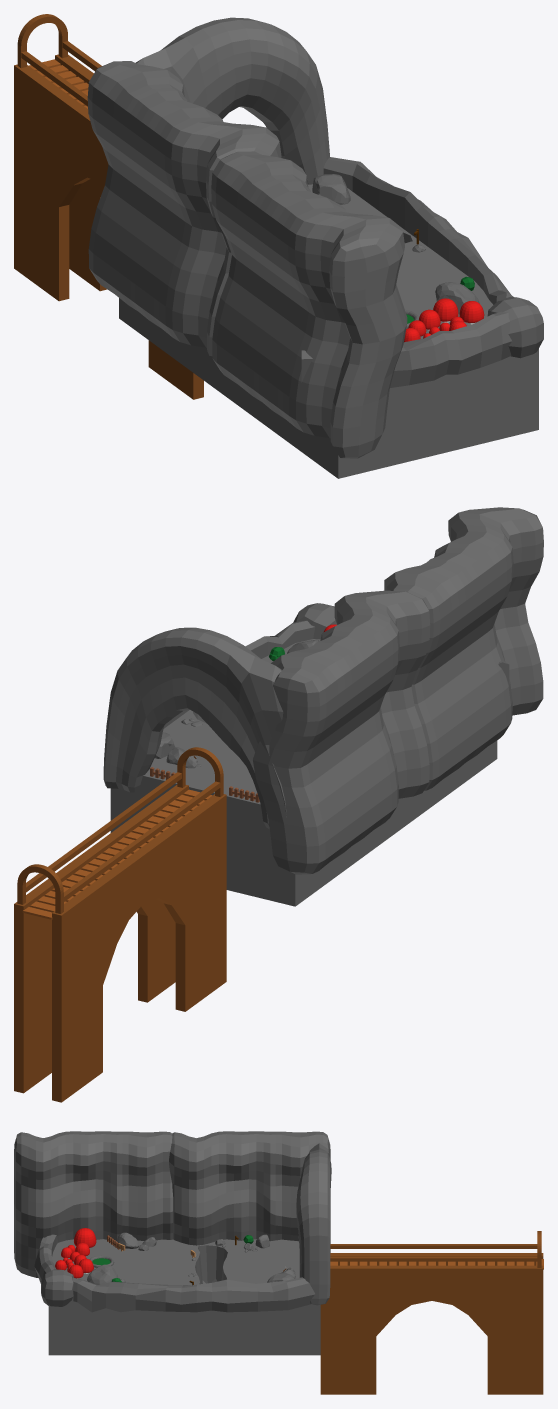
Rendered from картаобучения.fbx.
3 views of the same model, one above another, from view 1: azimuth 30°, elevation 25°; view 2: azimuth 150°, elevation 25°; view 3: azimuth 270°, elevation 25° (orthographic). The views are drawn at different scales.
Visible parts, largest first — view 1: Стена.001, Стена, Plane, Cube.059, Арка, Cube.053, Cube.047, Cube.060, Cube.048, Cube.056, Cube.057, Cube.080 (+2 smaller); view 2: Стена, Стена.001, Cube.059, Арка, Plane, Cube.060, Cube.056, Cube.061, Cube.053, Cube.057, Cube.048, Cube.058; view 3: Plane, Cube.060, Стена.001, Стена, Cube.053, Арка, Cube.056, Cube.059, Cube.048, Cube.061, Cube.047, Cube.054 (+1 smaller).
Boxes of the visible parts, x1,y1,x2,y2 form: Стена.001: (211,151,407,458); Стена: (87,61,281,367); Plane: (119,184,538,478); Cube.059: (14,64,203,399); Арка: (135,17,329,184); Cube.053: (323,157,513,304); Cube.047: (301,311,511,387); Cube.060: (55,54,106,291); Cube.048: (487,296,543,358); Cube.056: (21,41,101,106); Cube.057: (17,14,67,68); Cube.080: (312,174,350,204); Стена: (253,590,430,874); Стена.001: (384,507,543,790); Cube.059: (52,794,226,1102); Арка: (103,627,286,829); Plane: (110,639,497,906); Cube.060: (14,785,188,1093); Cube.056: (26,772,220,901); Cube.061: (22,789,212,919); Cube.053: (163,620,315,728); Cube.057: (17,864,63,913); Cube.048: (293,603,336,639); Cube.058: (177,747,223,796); Plane: (48,1239,320,1355); Cube.060: (320,1265,543,1394); Стена.001: (14,1131,173,1277); Стена: (169,1131,330,1252); Cube.053: (73,1277,315,1312); Арка: (296,1143,331,1305); Cube.056: (330,1244,537,1261); Cube.059: (330,1253,543,1265); Cube.048: (41,1269,73,1306); Cube.061: (330,1259,543,1269); Cube.047: (34,1234,57,1284); Cube.054: (87,1264,118,1284).
Bounding box in the file's own units: 1053 × 1416 × 2951.
